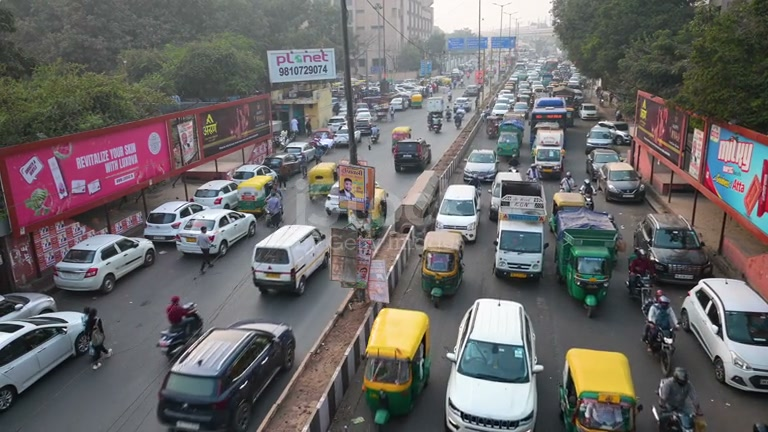bus: (493, 179, 549, 280), (532, 125, 564, 177)
car: (155, 320, 298, 430), (444, 297, 541, 430), (679, 276, 768, 392), (0, 308, 92, 412), (557, 348, 642, 431), (52, 233, 157, 294), (250, 223, 332, 296), (637, 211, 712, 284), (173, 208, 257, 257), (420, 229, 465, 297), (434, 184, 482, 243), (143, 199, 207, 241), (600, 162, 645, 204), (0, 291, 57, 320), (462, 149, 499, 186), (193, 179, 239, 208), (230, 163, 278, 188), (263, 151, 304, 180), (585, 149, 621, 180), (281, 140, 321, 164)
motorcycle: (156, 307, 204, 361), (647, 323, 675, 376)
pedestrian: (656, 366, 699, 431), (646, 293, 679, 342), (166, 295, 194, 327)
truck: (361, 306, 433, 421), (552, 207, 624, 306), (323, 161, 376, 217)
